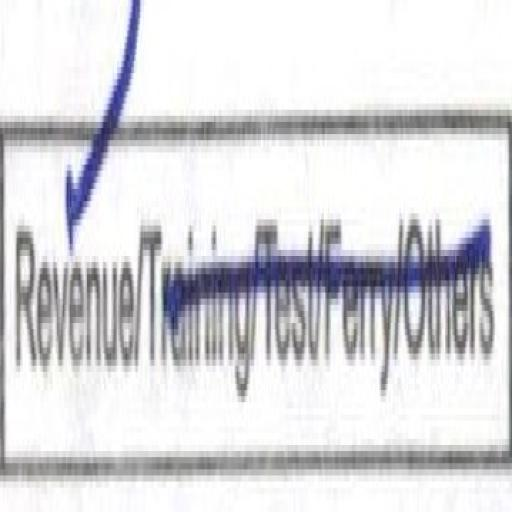check: (0, 0, 139, 471)
